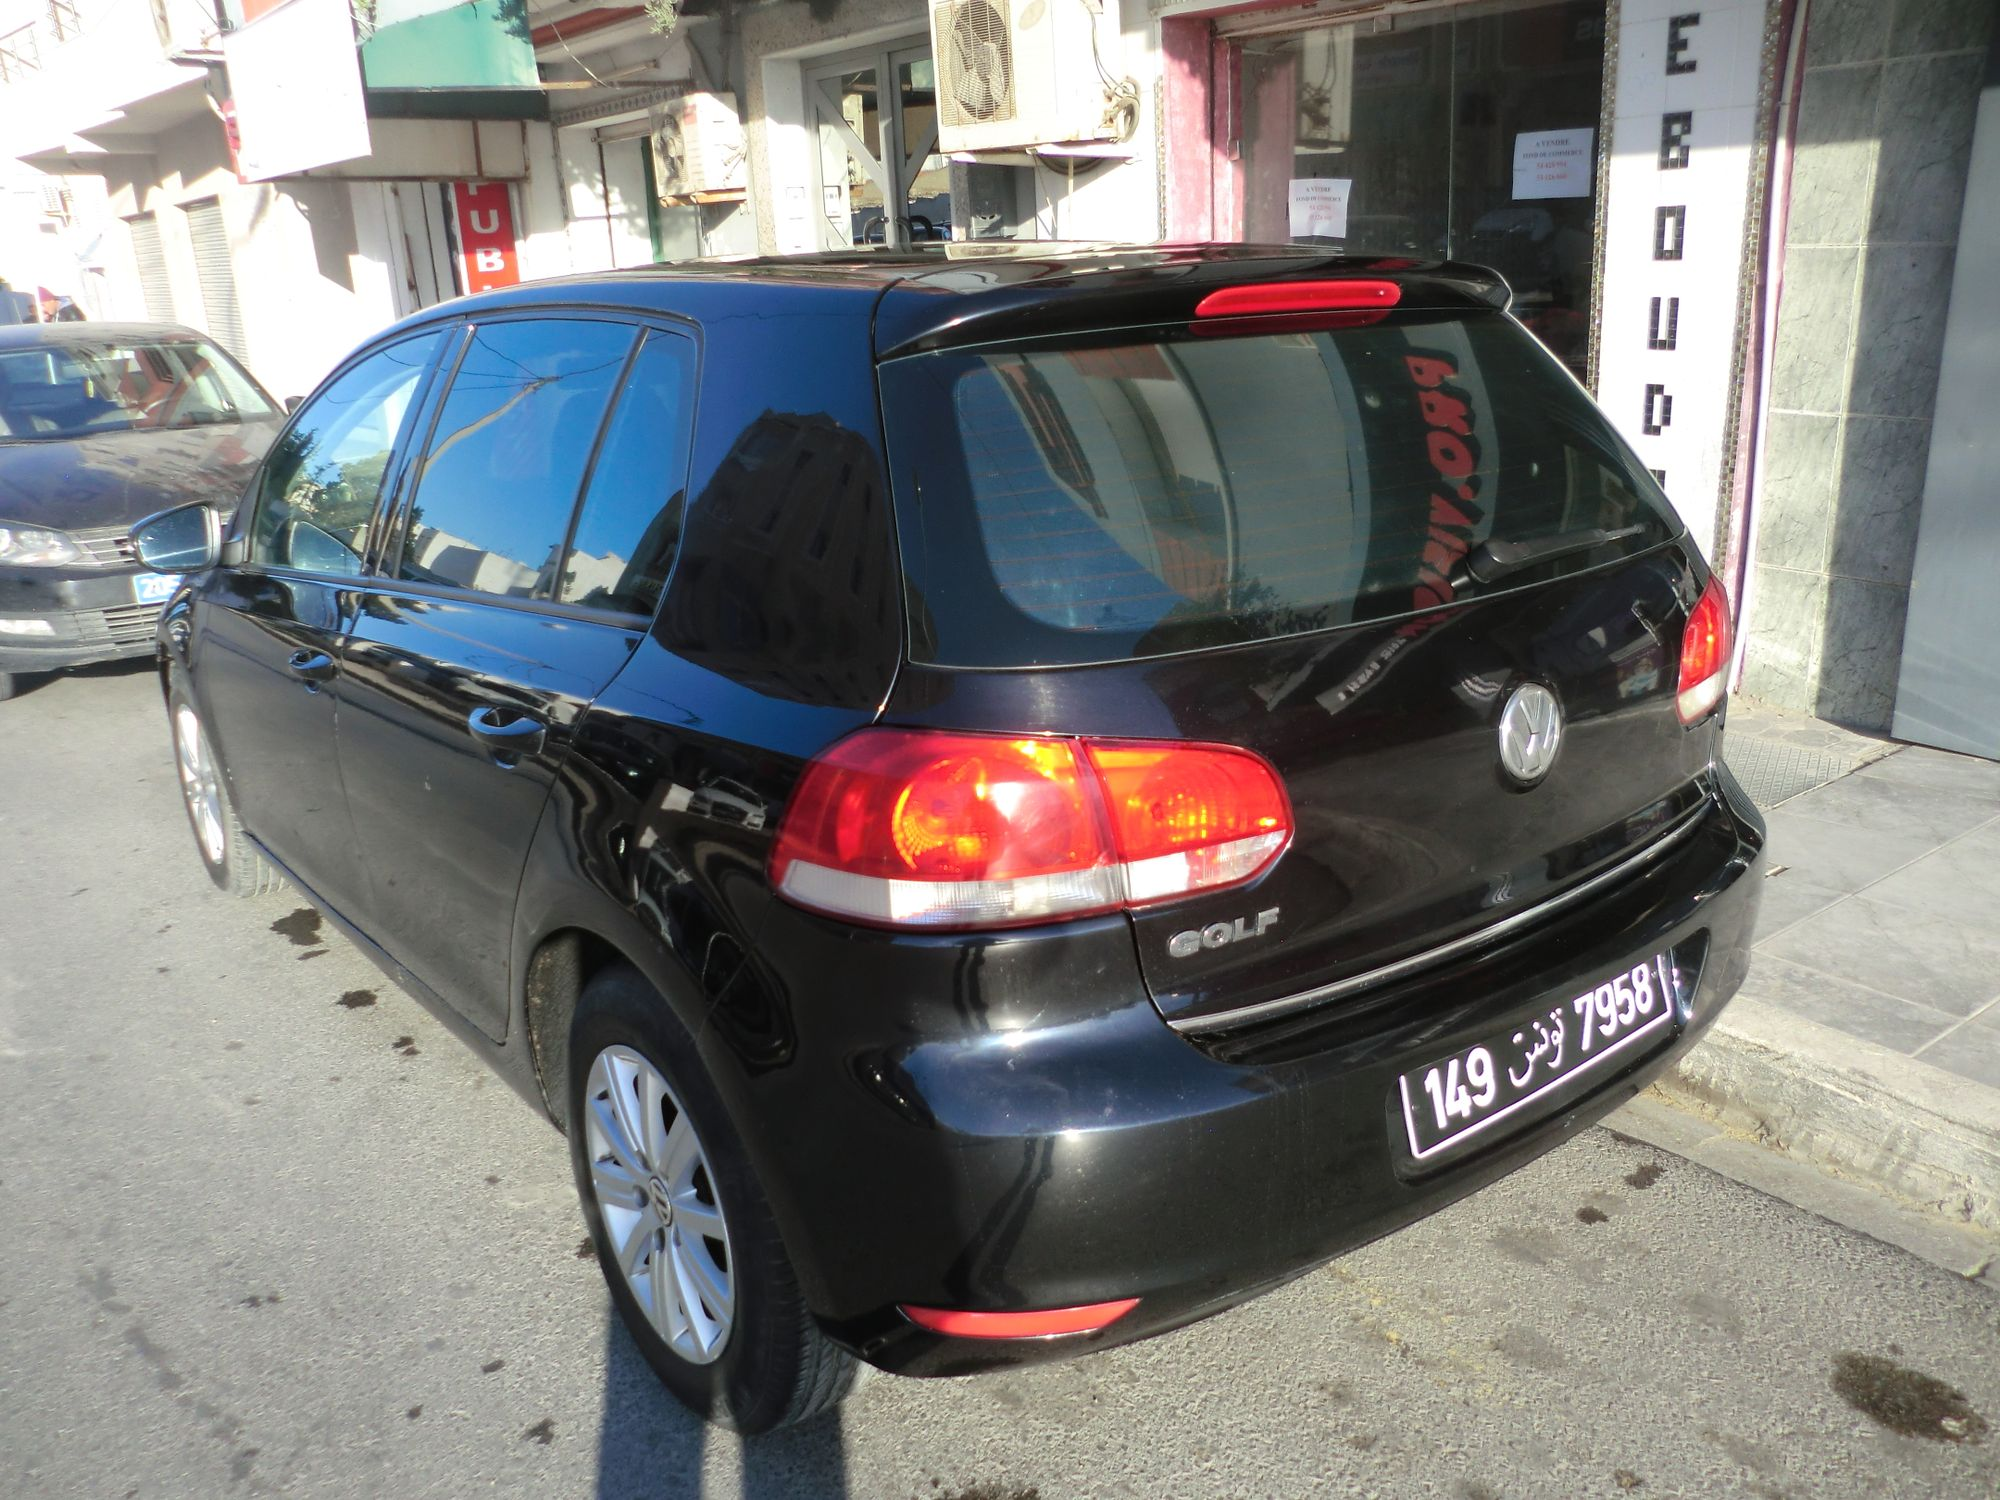LP: (1405, 953, 1683, 1145)
